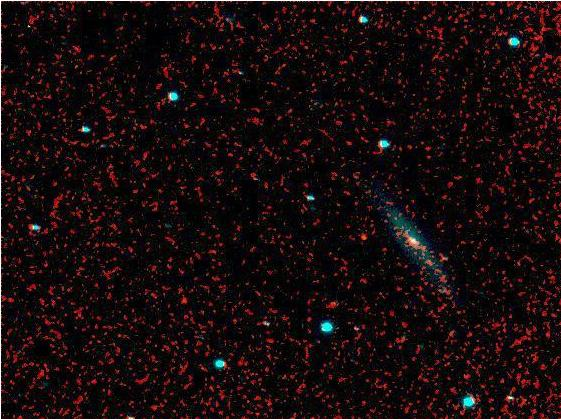star: (346, 221, 376, 251)
